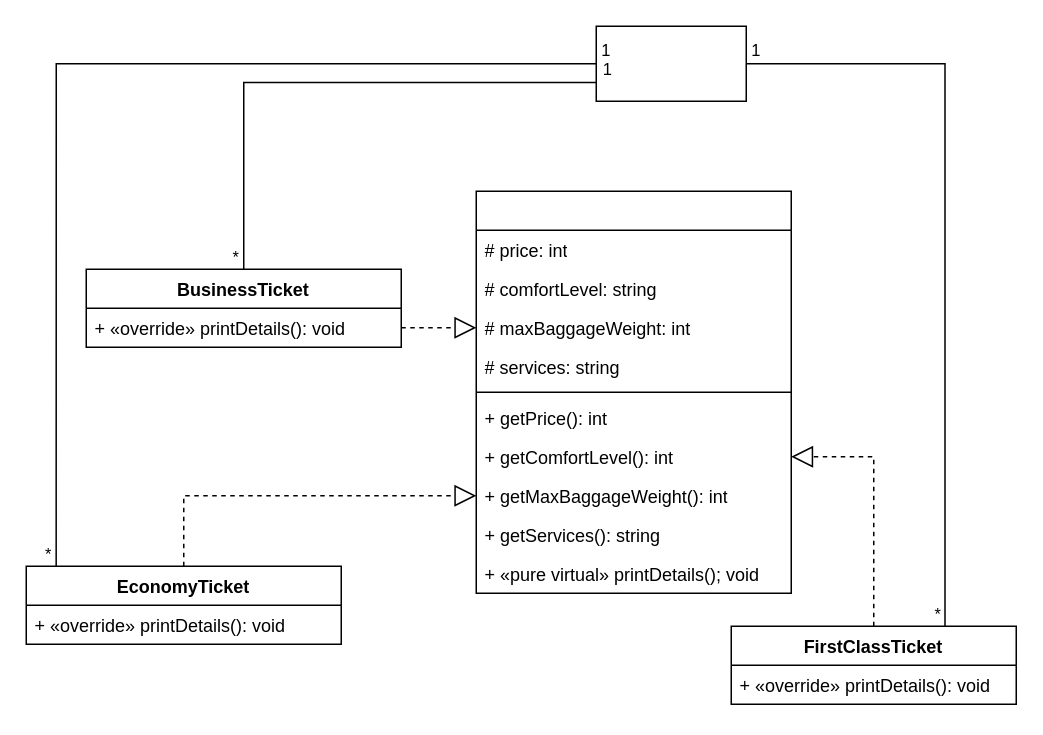
This 1043x735 diagram has some shape labels left out. Here are the shapes that lost their labels. From the top down, the box of each, then its label:
(595, 25, 746, 101): Client
(475, 190, 791, 593): Ticket
